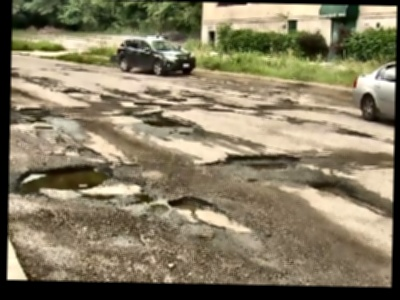pothole: (12, 161, 113, 198), (164, 193, 243, 230), (202, 150, 301, 172), (310, 181, 354, 198), (141, 116, 192, 129)
